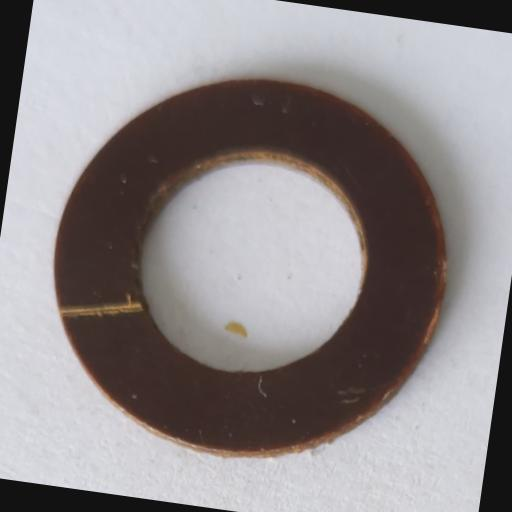defect: (59, 286, 144, 328)
